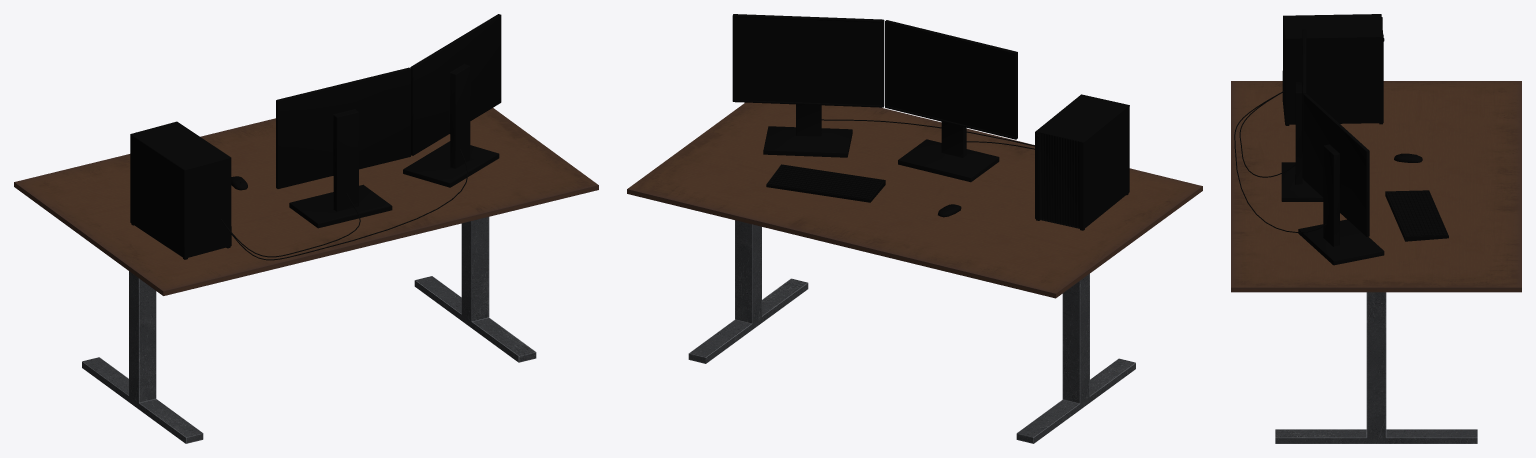
File: Desk2.fbx
3 views of the same model, side by side, from view 1: azimuth 30°, elevation 25°; view 2: azimuth 150°, elevation 25°; view 3: azimuth 270°, elevation 25° (orthographic). The views are drawn at different scales.
Visible parts, largest first — view 1: Cube.001, Cube.002, Cube.004, Cube.003; view 2: Cube.001, Cube.003, Cube.002, Cube.004, Cube.005; view 3: Cube.001, Cube.004, Cube.003, Cube.005, Cube.002, BézierCurve.001.
Boxes of the visible parts, x1,y1,x2,y2 form: Cube.001: (14,108,598,443); Cube.002: (276,67,410,228); Cube.004: (130,121,231,259); Cube.003: (403,14,501,187); Cube.001: (627,102,1202,443); Cube.003: (732,14,884,157); Cube.002: (885,20,1017,182); Cube.004: (1035,94,1129,230); Cube.005: (766,164,885,202); Cube.001: (1231,81,1521,443); Cube.004: (1282,14,1384,125); Cube.003: (1298,93,1384,265); Cube.005: (1385,190,1448,241); Cube.002: (1281,29,1323,201); BézierCurve.001: (1234,91,1326,232).
Size of the model in its own units: 798 by 537 by 474.
6 materials, 2 textured.
